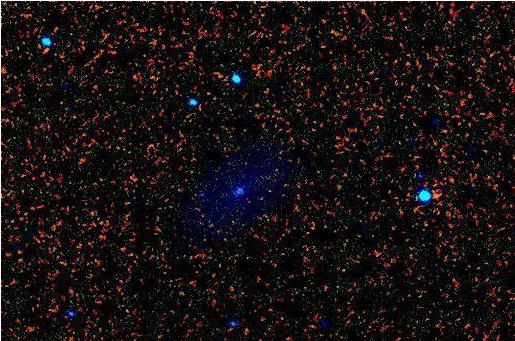star: (422, 181, 452, 211)
